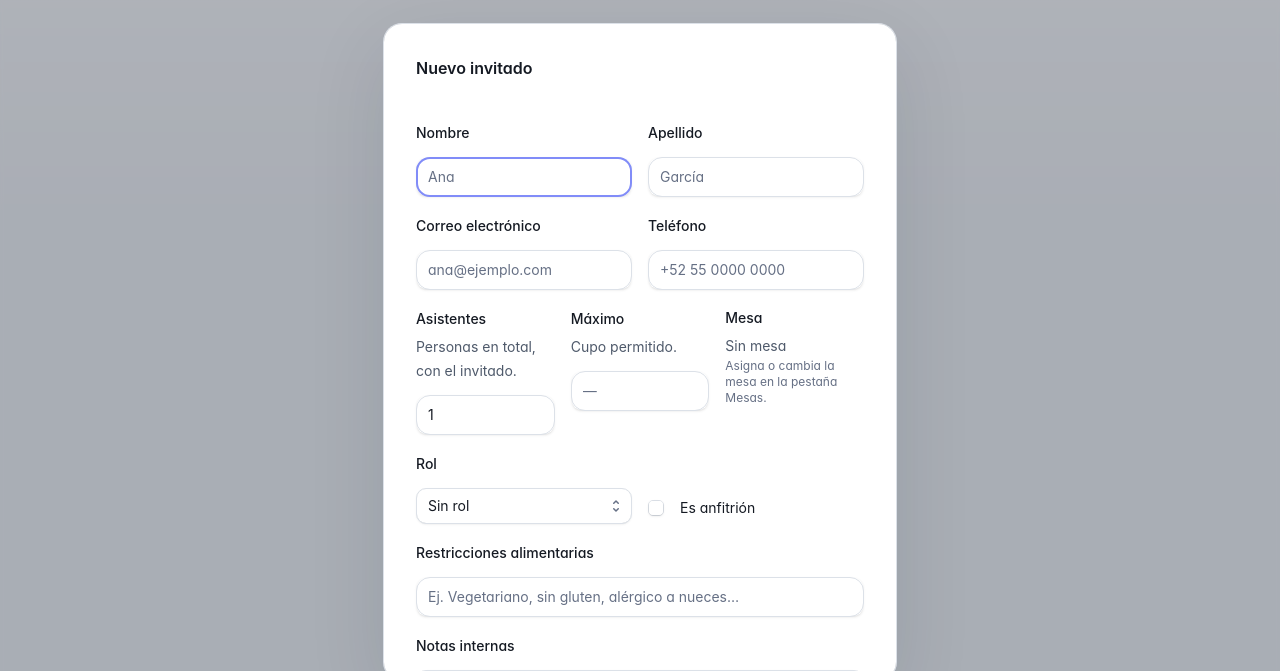
it: GuestFormModal › clears the automatic host flag when the host role changes away
Select "Anfitrión" in the dropdown labelled "Rol": (524, 506) top-left (416, 488), bottom-right (632, 524)
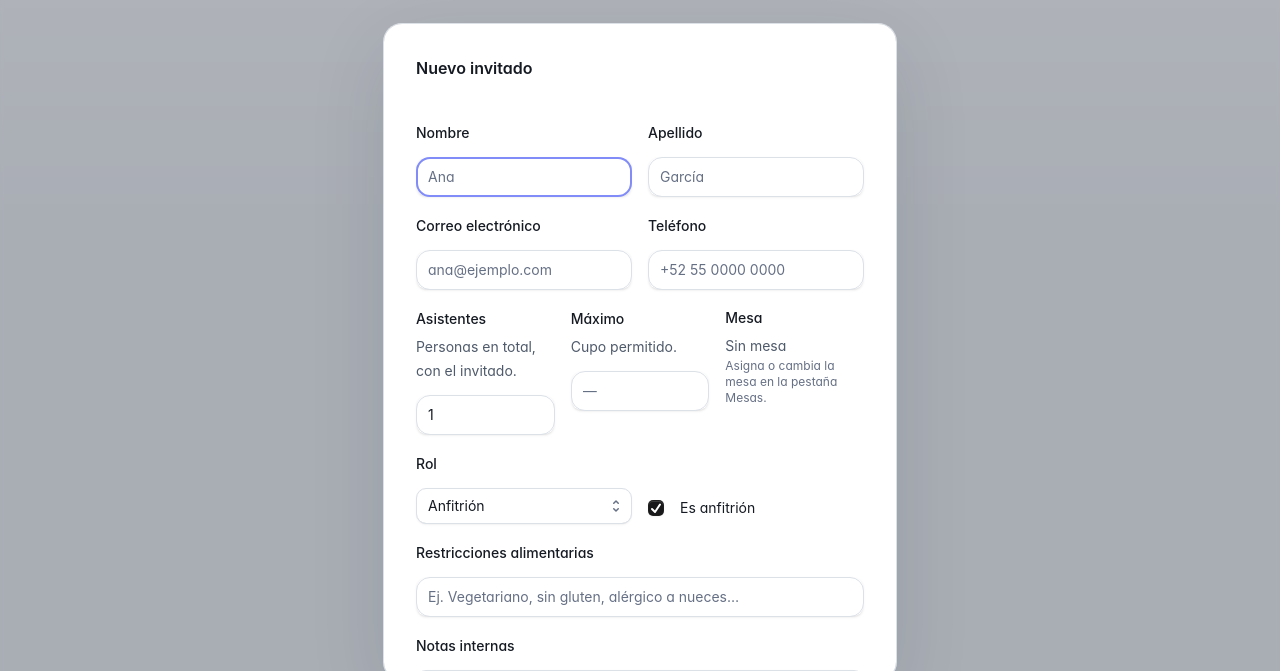
Expected: the checkbox named "Es anfitri" is checked, top-left (648, 500), bottom-right (664, 520)
Select "Invitado" in the dropdown labelled "Rol": (524, 506) top-left (416, 488), bottom-right (632, 524)
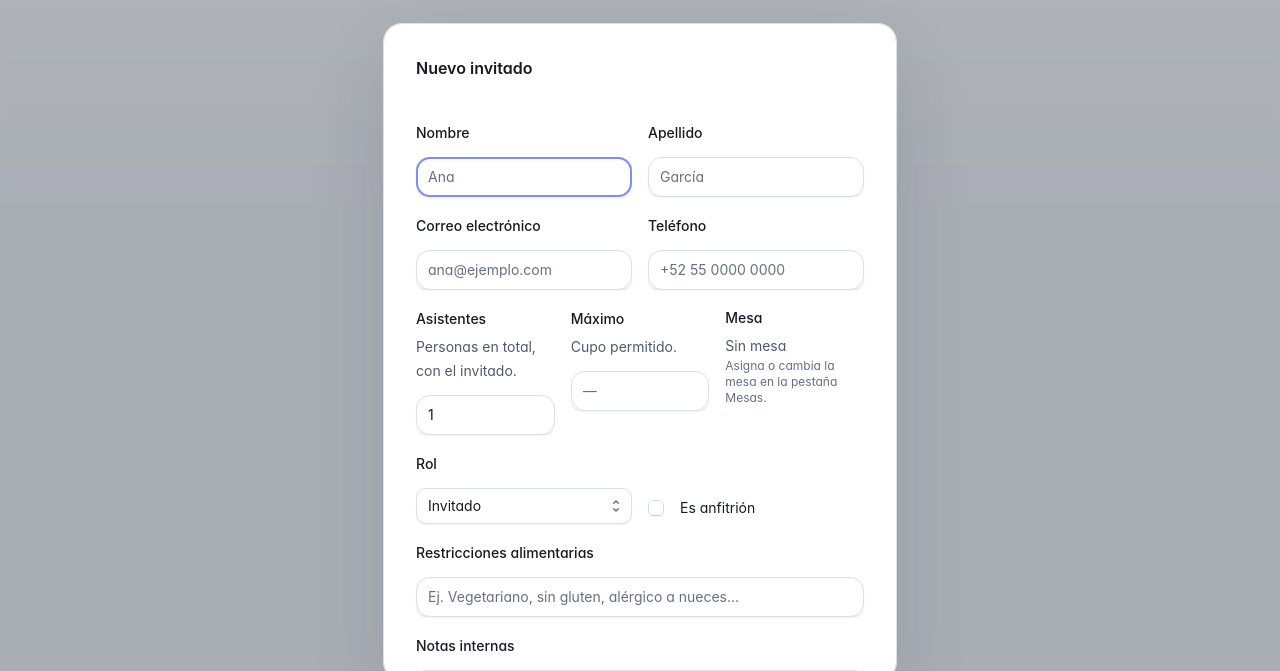
Expected: the checkbox named "Es anfitri" is not checked, top-left (648, 500), bottom-right (664, 520)
